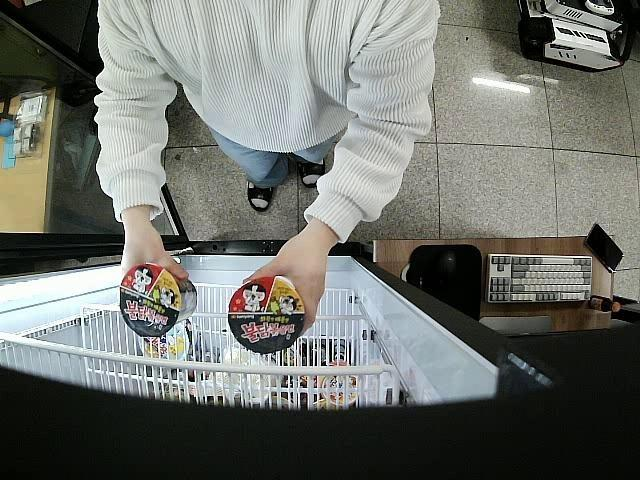08_buldak_S: (120, 263, 198, 337), (230, 278, 306, 352)
